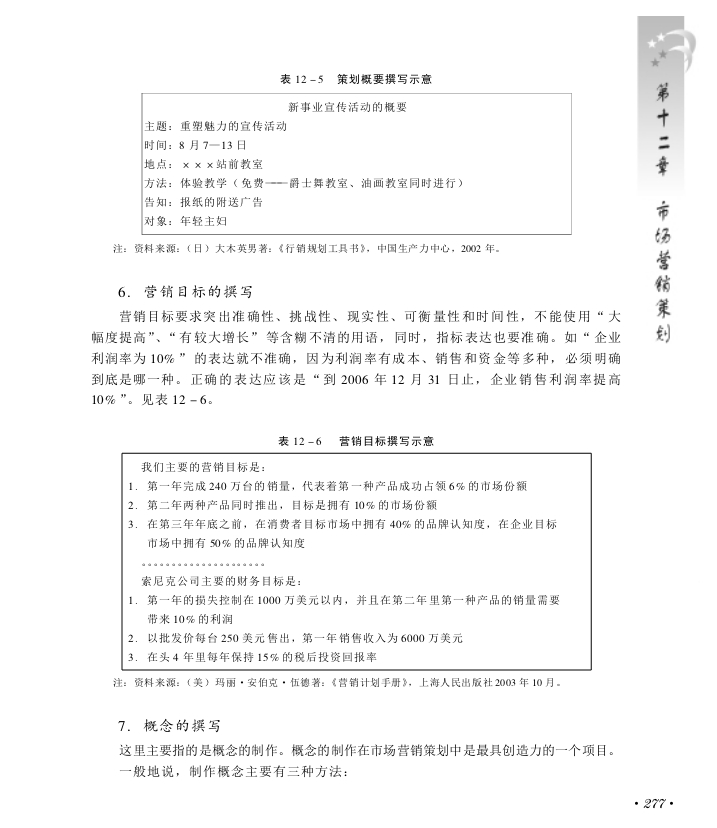table: (120, 451, 591, 669), (141, 92, 571, 234)
